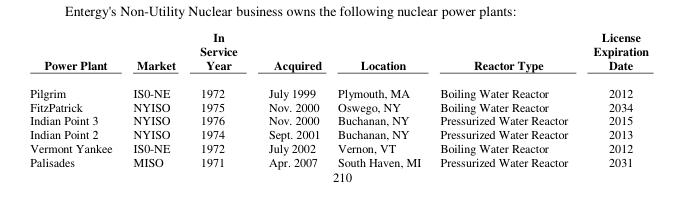table: (29, 28, 648, 169)
table column: (429, 28, 579, 169), (329, 28, 429, 169), (29, 28, 122, 169), (252, 28, 329, 169), (579, 28, 648, 169), (122, 28, 187, 169), (187, 28, 252, 169)
table column header: (29, 28, 648, 78)
table row: (29, 28, 648, 78), (29, 78, 648, 98), (29, 154, 648, 169), (29, 98, 648, 112), (29, 112, 648, 126), (29, 126, 648, 140), (29, 140, 648, 154)
